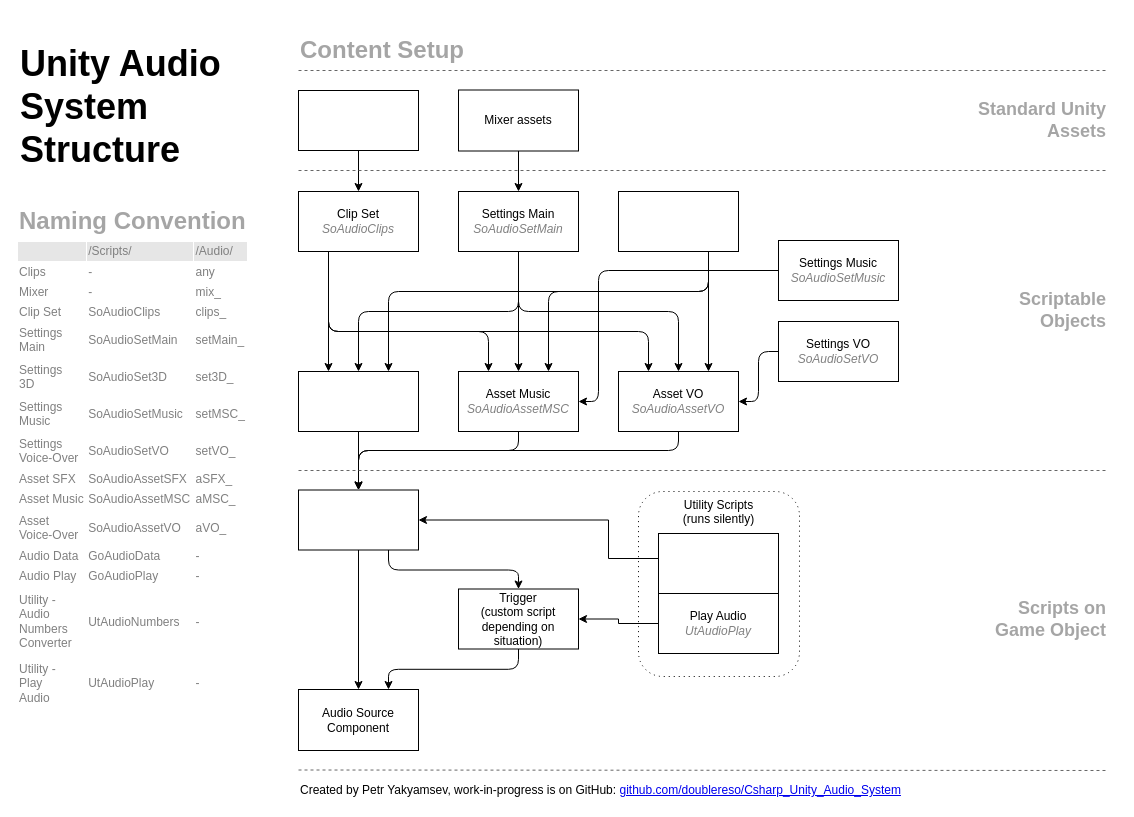
Image size: 1134x817. Some labels were removed from this diagram. Each missing label, with the box of its shape:
Asset SFX SoAudioAssetSFX: (298, 370, 418, 432)
Audio Data (Data Manager) GoAudioData: (298, 489, 418, 550)
Audio Numbers Converter UtAudioNumbers: (658, 532, 778, 594)
Clips: (298, 90, 418, 150)
Settings 3D SoAudioSet3D: (618, 190, 738, 252)
